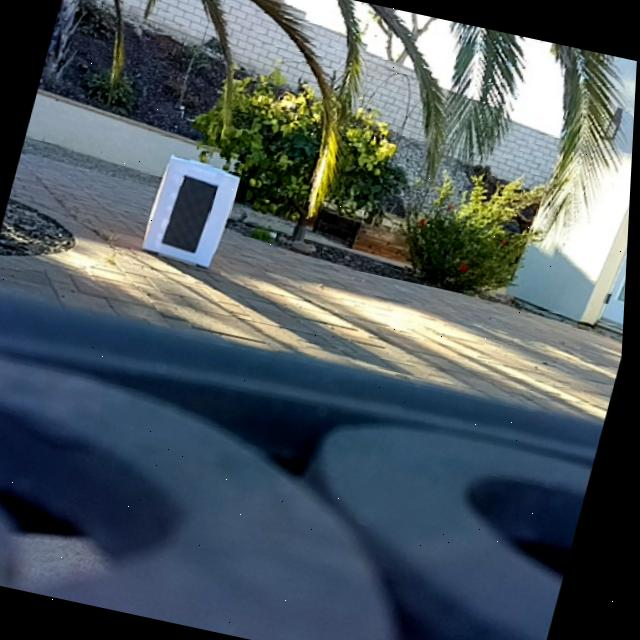led: (162, 173, 221, 256)
